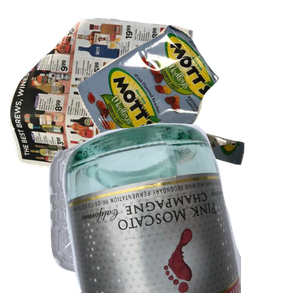glass: (60, 120, 300, 300)
paper: (10, 15, 196, 195)
plastic: (46, 130, 227, 300)
trash: (74, 22, 300, 185)
